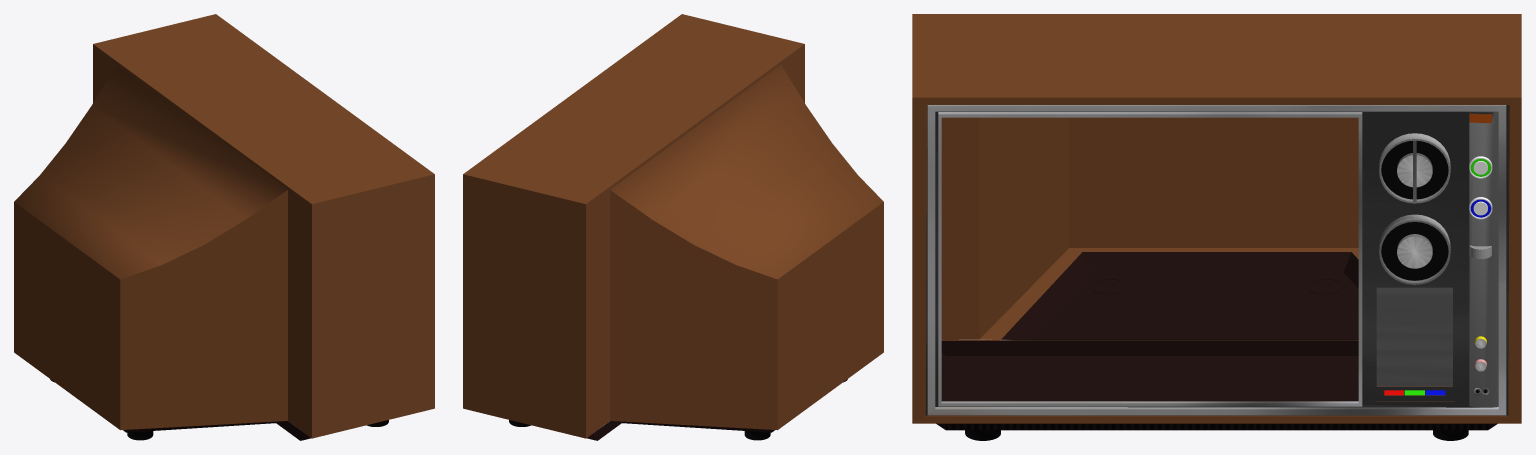
3 views of the same model, side by side, from view 1: azimuth 30°, elevation 25°; view 2: azimuth 150°, elevation 25°; view 3: azimuth 270°, elevation 25° (orthographic). The views are drawn at different scales.
Visible parts, largest first — view 1: TV_1; view 2: TV_1; view 3: TV_1.
Part boxes in pixels (box(x1,y1,x2,y2)): TV_1: box(14, 14, 434, 440); TV_1: box(463, 14, 883, 440); TV_1: box(912, 14, 1521, 440).
Size of the model in its own units: 1.45 by 1.35 by 2.08.
4 materials, 4 textured.
